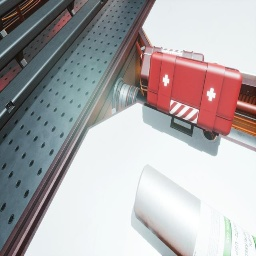0: (134, 164, 256, 256)
FirstAidBox ,: (147, 51, 242, 137), (139, 46, 204, 97)
